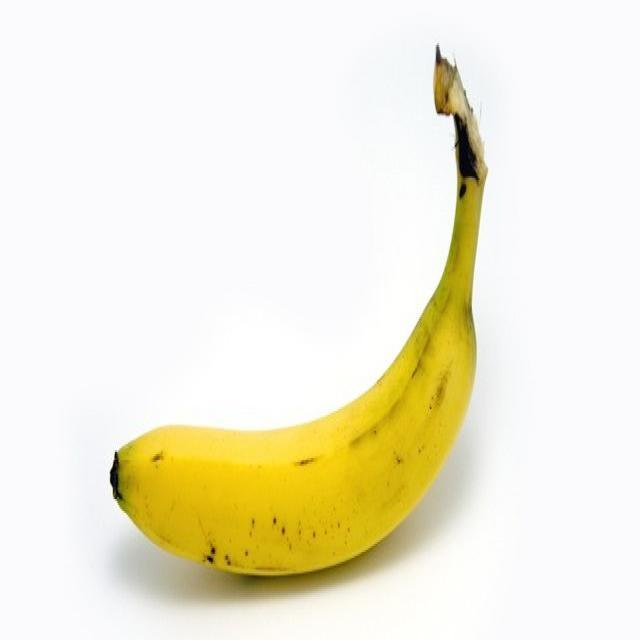banana: (102, 268, 490, 611)
